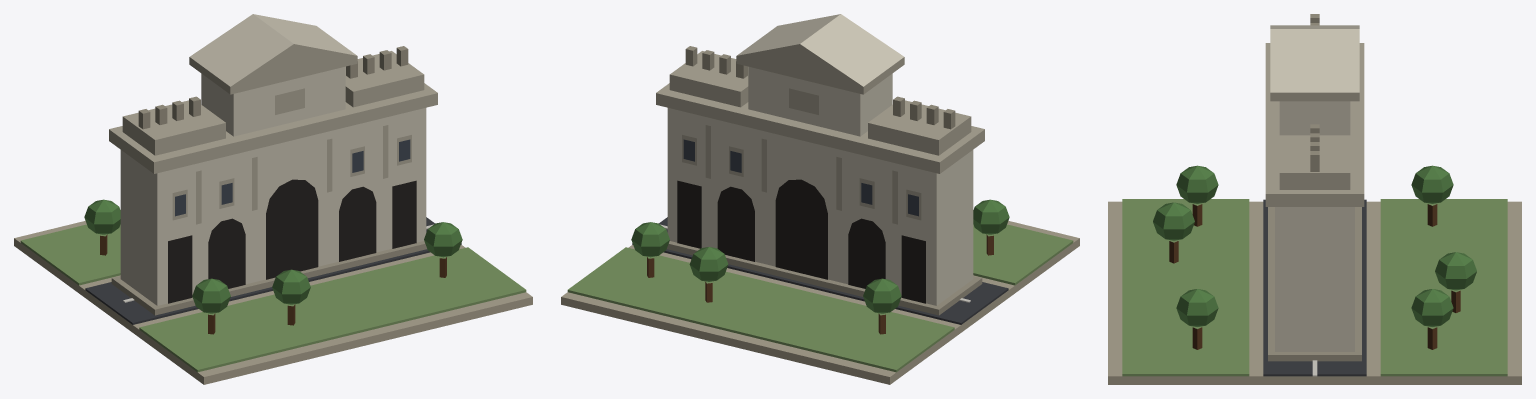
File: puertaAlcala.glb
The picture shows the model from 3 angles, left to right: view 1: azimuth 30°, elevation 25°; view 2: azimuth 150°, elevation 25°; view 3: azimuth 270°, elevation 25°; orthographic projection. The views are drawn at different scales.
Parts seen in each view (by area): view 1: puertaAlcala; view 2: puertaAlcala; view 3: puertaAlcala.
Boxes of the visible parts, <box> form: puertaAlcala: <box>14,14,532,384</box>; puertaAlcala: <box>561,14,1079,384</box>; puertaAlcala: <box>1108,14,1521,384</box>.
Bounding box in the file's own units: 1.78 × 1.26 × 1.76.
